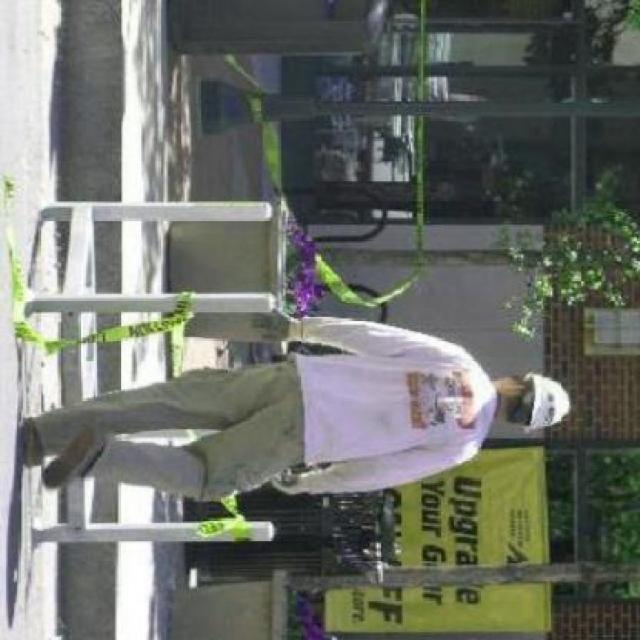Person: (7, 309, 576, 500)
